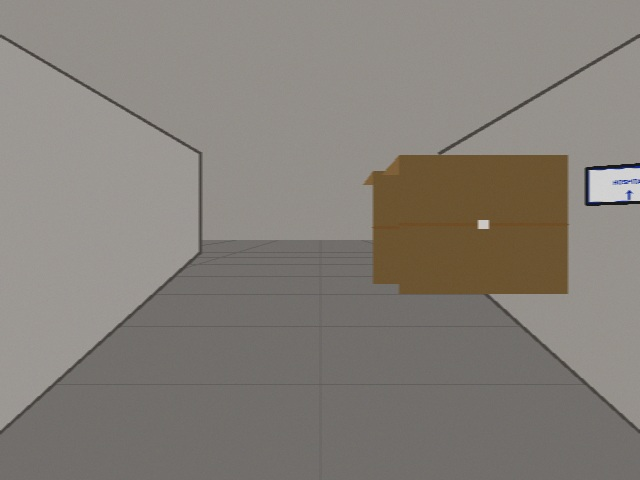box: (382, 155, 567, 293), (363, 171, 510, 283)
directional_sign: (586, 163, 639, 204)
